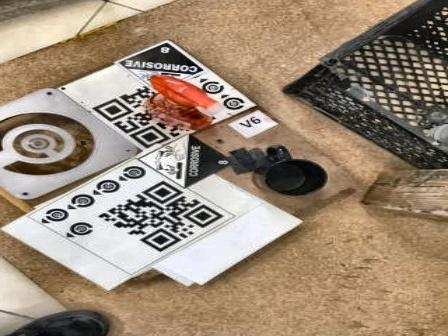corrosive: (134, 133, 233, 189), (111, 38, 211, 92)
